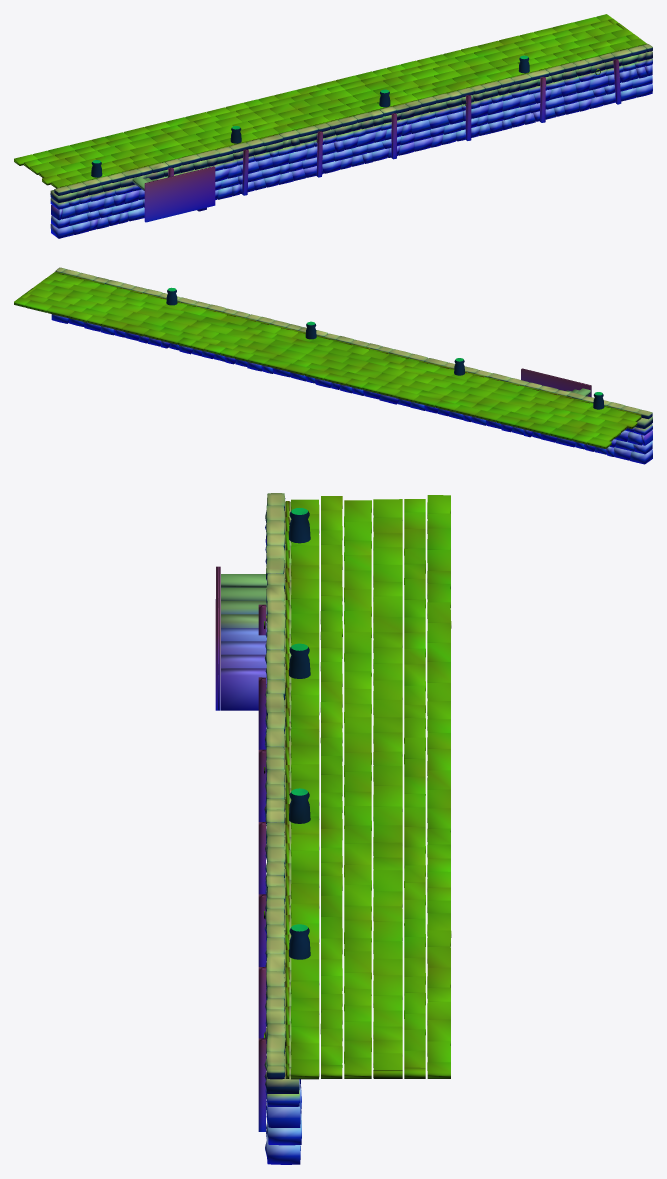
Rendered from harbour_quay.glb.
The picture shows the model from 3 angles, top to bottom: view 1: azimuth 30°, elevation 25°; view 2: azimuth 150°, elevation 25°; view 3: azimuth 270°, elevation 25°; orthographic projection. The views are drawn at different scales.
Parts seen in each view (by area): view 1: harbour_quay; view 2: harbour_quay; view 3: harbour_quay.
Part boxes in pixels (x1,y1,x2,y2): harbour_quay: (14, 14, 652, 238); harbour_quay: (14, 267, 652, 464); harbour_quay: (215, 493, 451, 1164).
Size of what is drawn, in the model's own units: 32 by 3.1 by 5.5.
